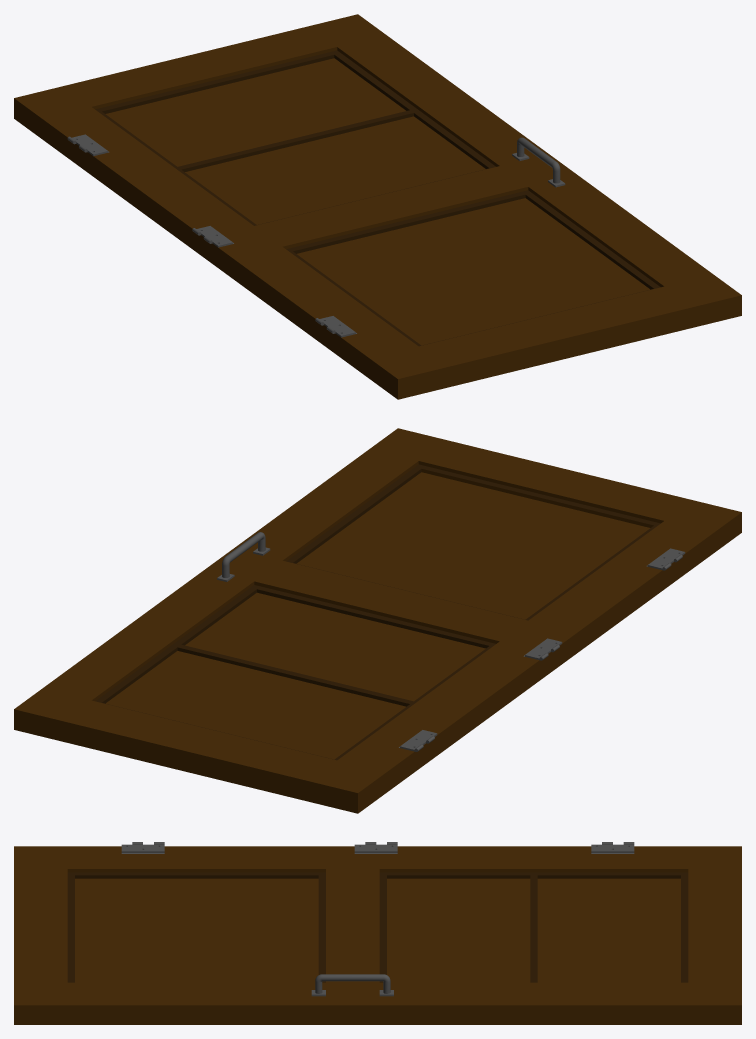
The model's file is Door.dae.
3 views of the same model, one above another, from view 1: azimuth 30°, elevation 25°; view 2: azimuth 150°, elevation 25°; view 3: azimuth 270°, elevation 25° (orthographic). The views are drawn at different scales.
Visible parts, largest first — view 1: SketchUp (×10); view 2: SketchUp (×9); view 3: SketchUp (×14).
Boxes of the visible parts, left/top/right/bottom form: SketchUp (×10): left=14, top=14, right=741, bottom=399; SketchUp (×9): left=14, top=428, right=741, bottom=813; SketchUp (×14): left=14, top=842, right=741, bottom=1024.
Size of the model in its own units: 41.73 by 79.92 by 4.92.
